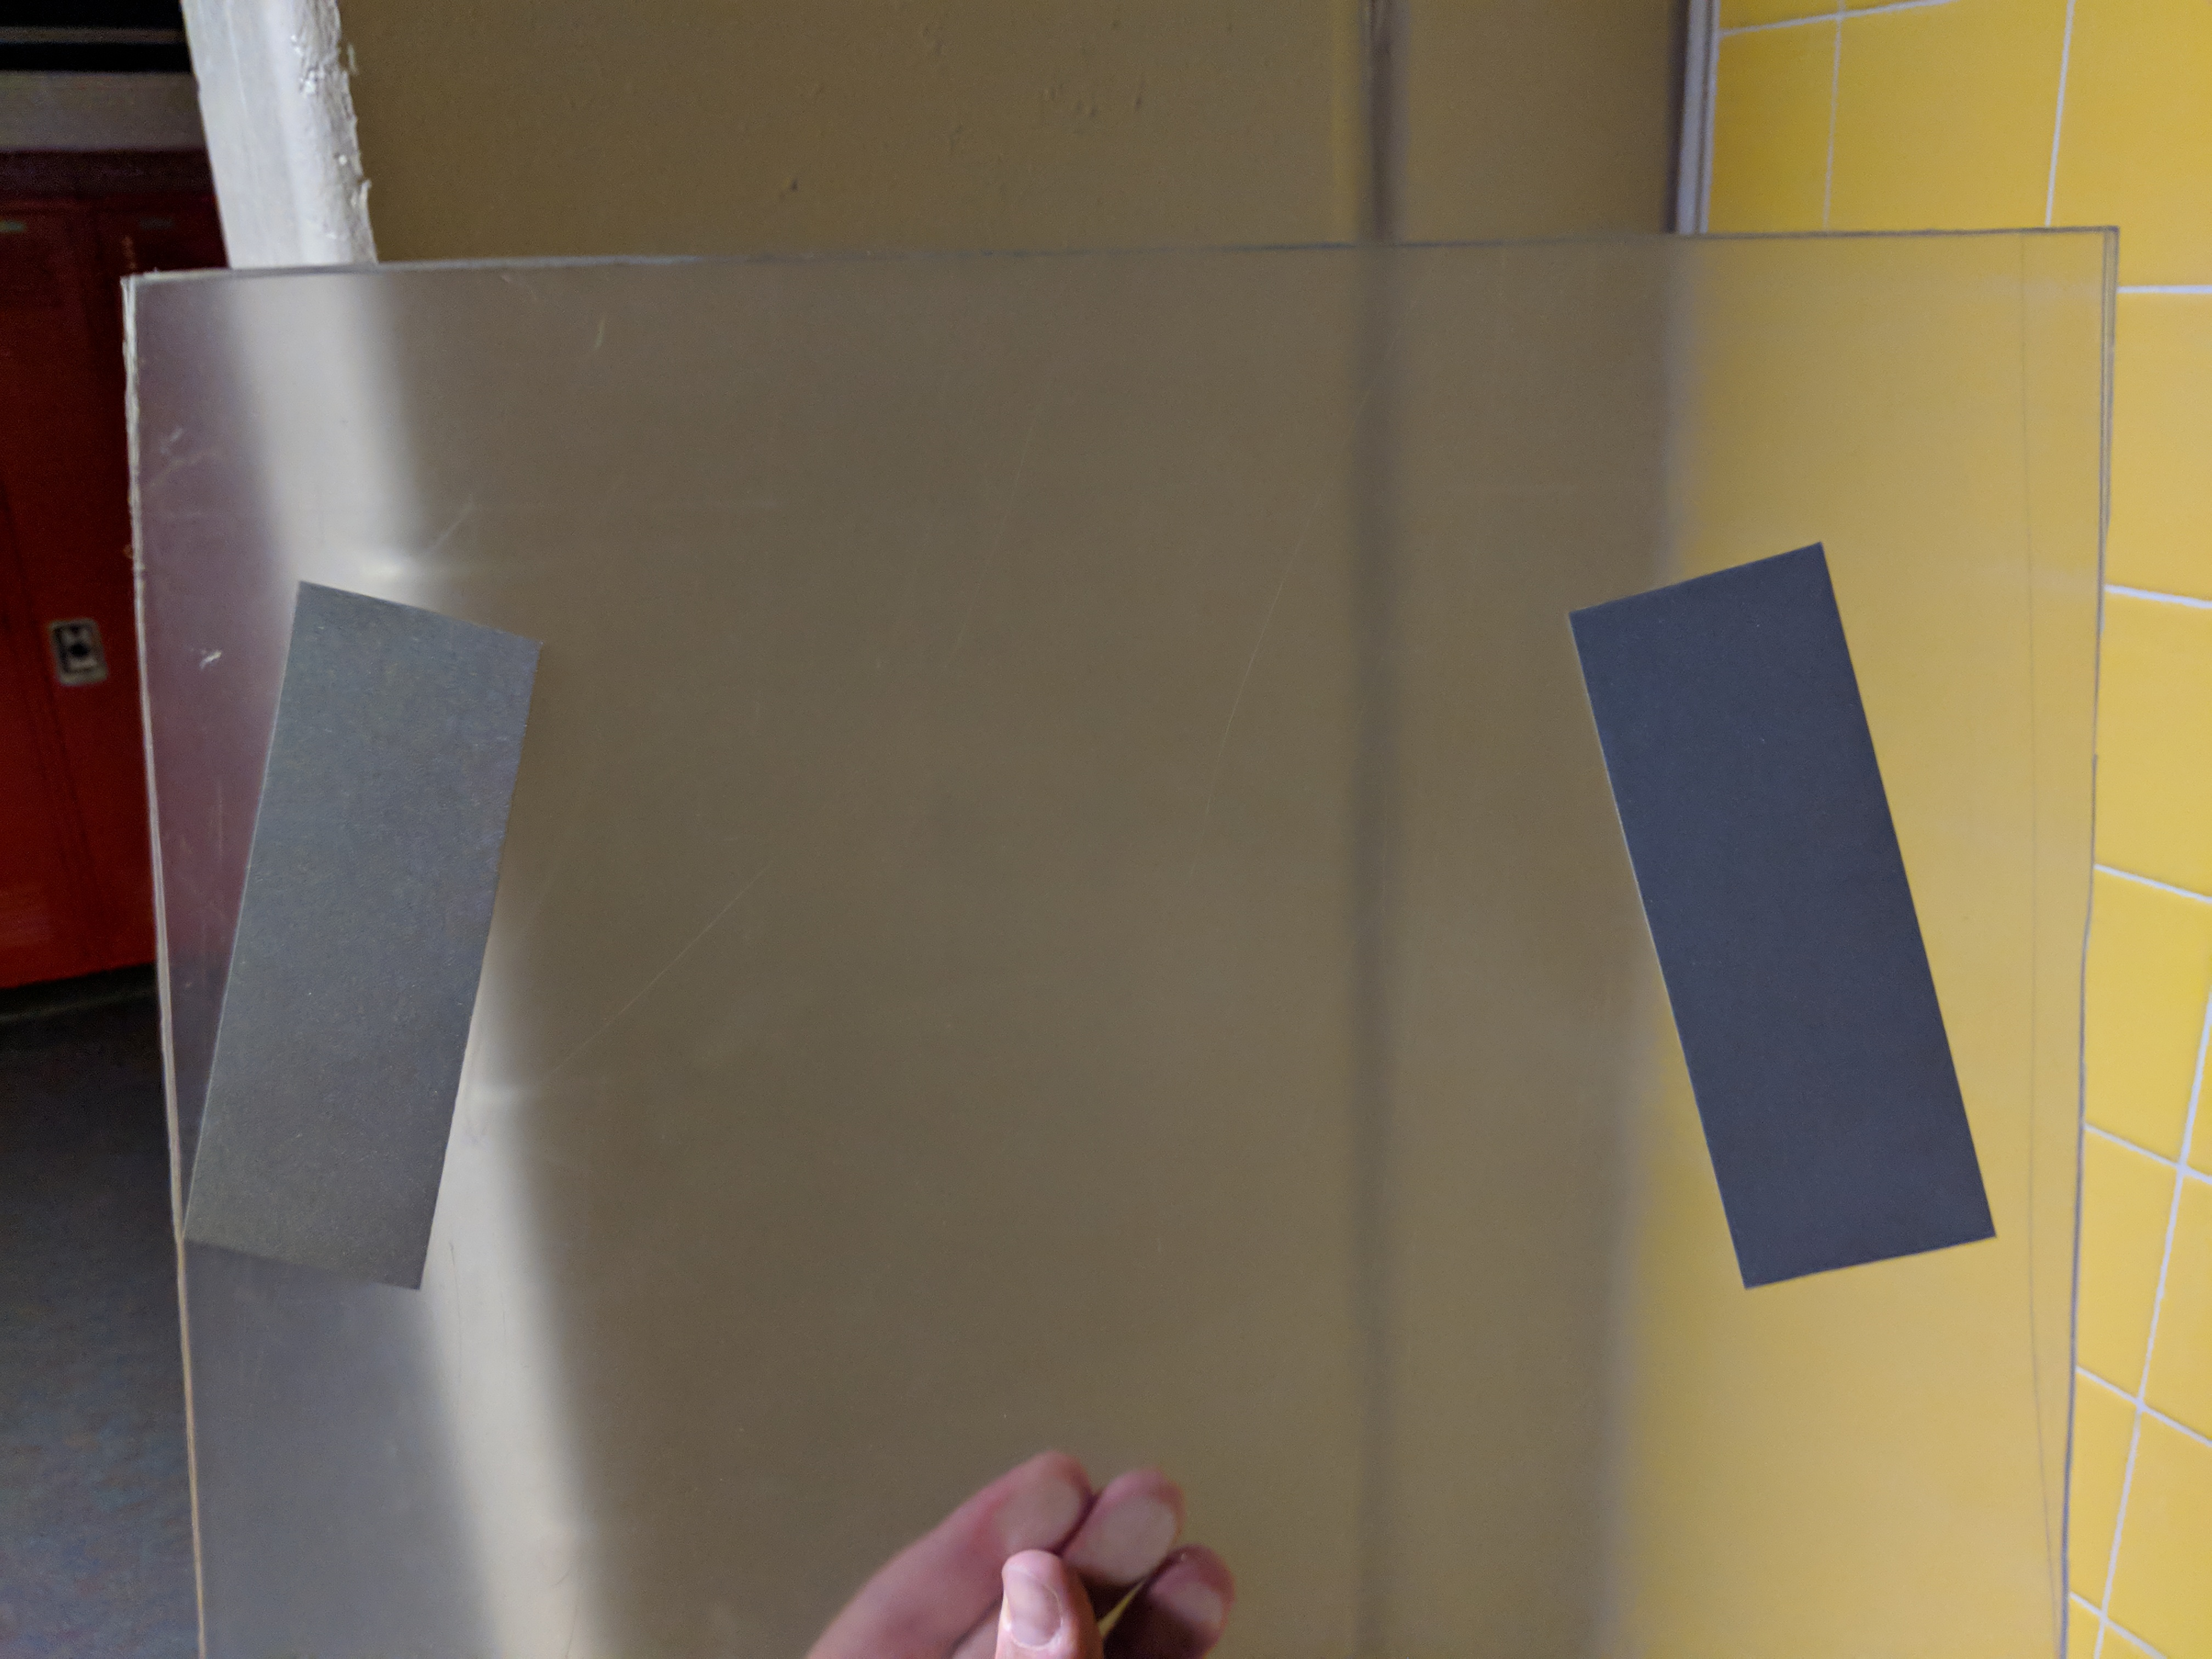vision_target: (169, 538, 2027, 1305)
